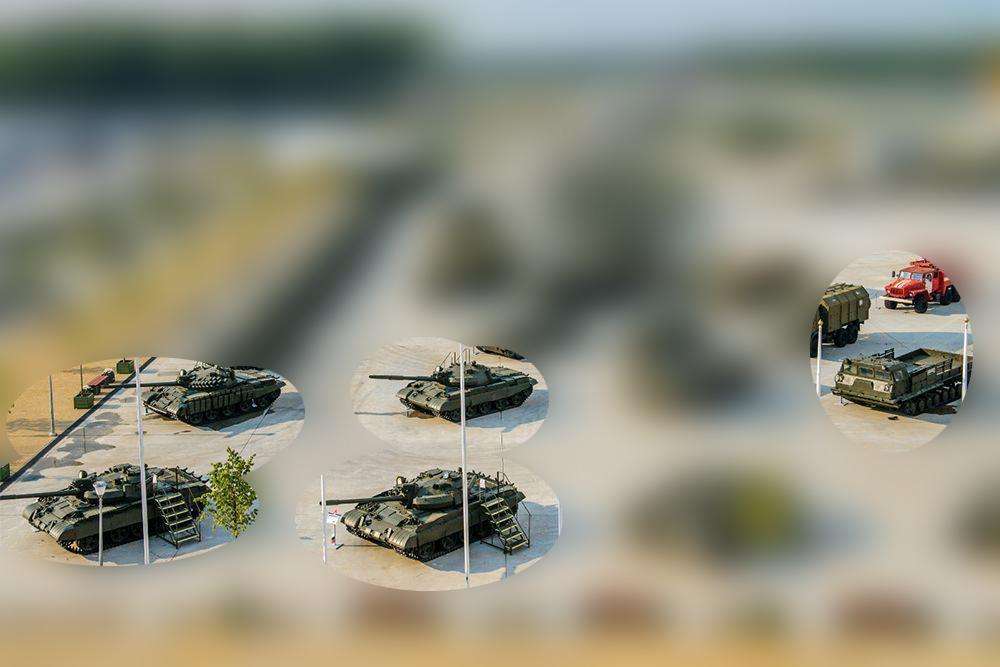tank: (316, 467, 530, 563), (0, 464, 210, 560), (97, 362, 288, 436), (364, 355, 543, 426)
